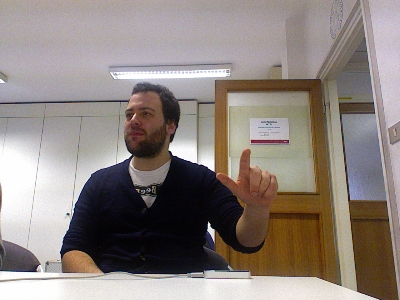枪: (215, 147, 278, 209)
